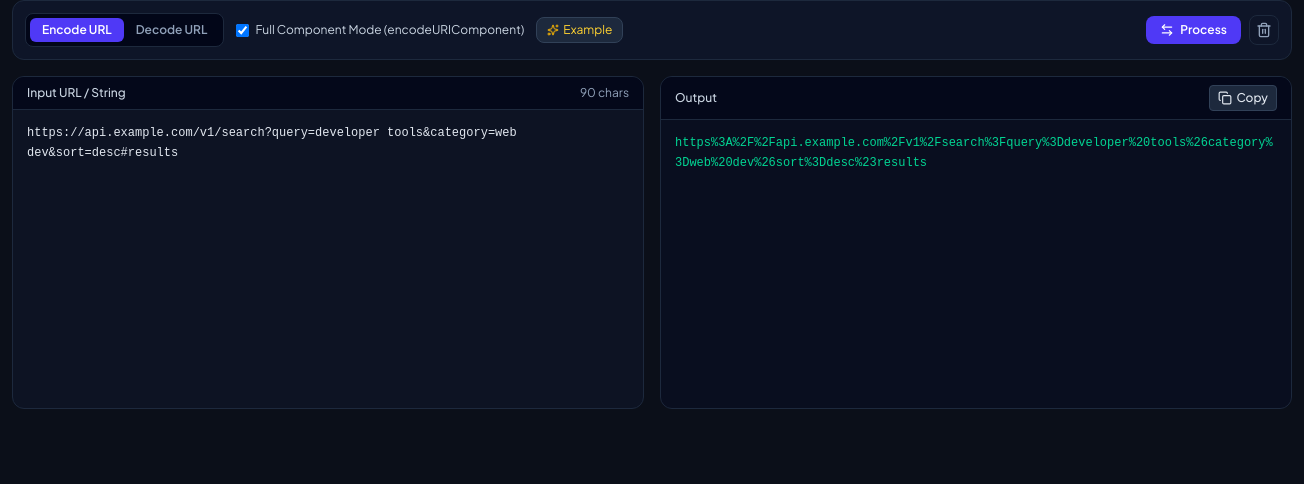
Test: UrlEncoderDecoder Tool › handles malformed URI components on decode
This screenshot has width=1304, height=484.
Step 1. Click the button "Decode URL" → point(172, 30), box [124, 18, 219, 42]
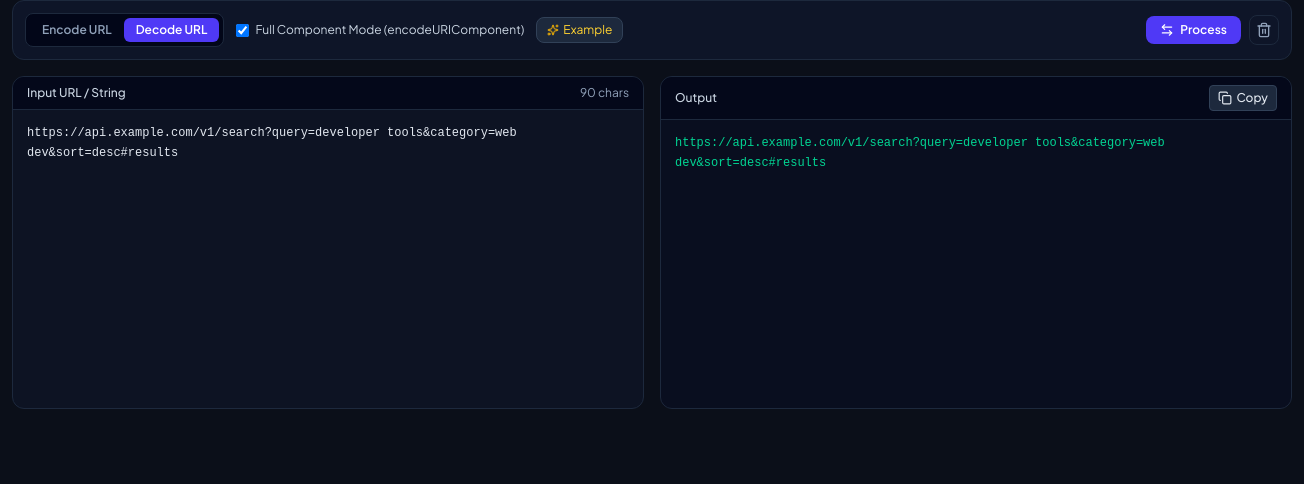
Step 2. Replace the text in the text box with placeholder "Type or paste URL here..." with "%E0%A4%A" → point(328, 254), box [13, 110, 643, 398]
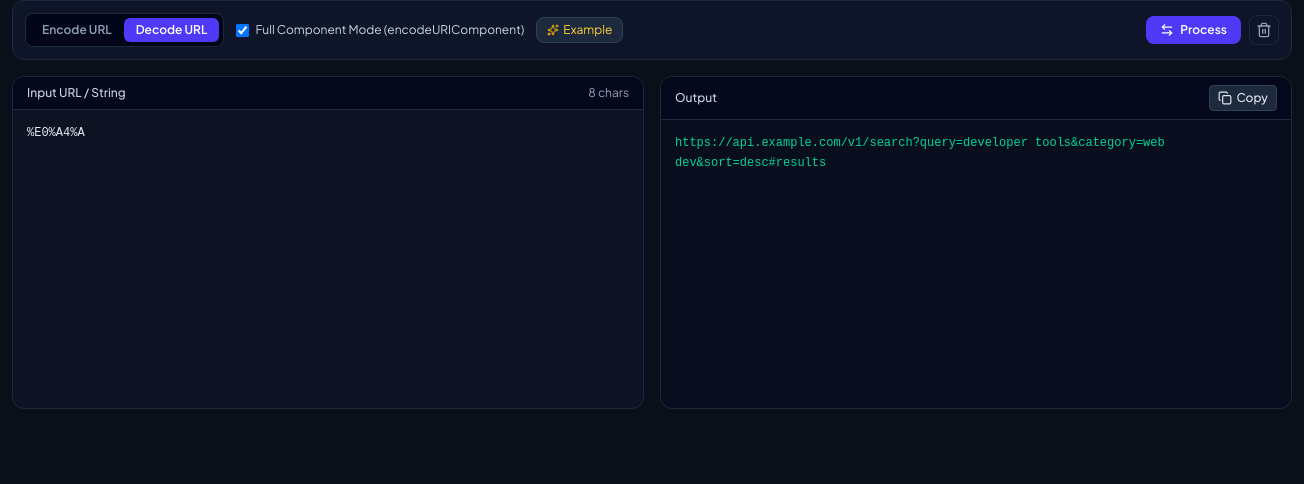
Step 3. Click the button "Process" → point(1194, 30), box [1146, 16, 1241, 44]
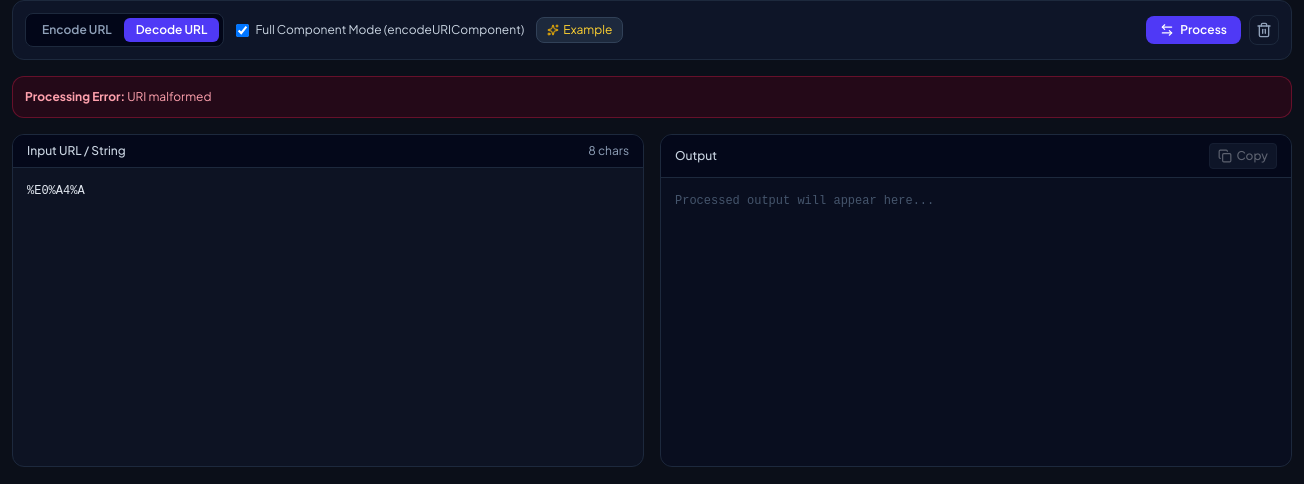
Expected: the text "Processing Error:" is shown, [25, 89, 125, 104]
